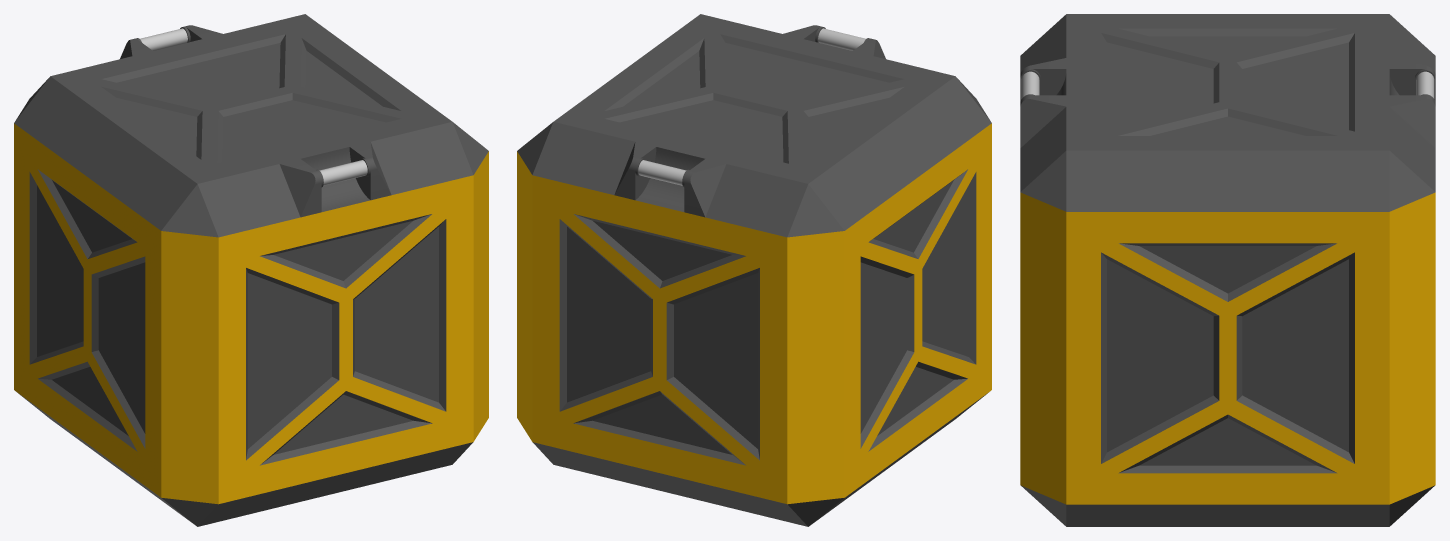
The model's file is crate 1.fbx.
3 renders of one model, left to right at view 1: azimuth 30°, elevation 25°; view 2: azimuth 150°, elevation 25°; view 3: azimuth 270°, elevation 25°, orthographic. The views are drawn at different scales.
Visible parts, largest first — view 1: Component_3_1, Component_1_2, Component_2_2, Component_2_1, Component_1_1; view 2: Component_3_1, Component_1_1, Component_2_1, Component_2_2, Component_1_2; view 3: Component_3_1, Component_1_1, Component_1_2, Component_2_1, Component_2_2.
Part boxes in pixels (x1,y1,x2,y2): Component_3_1: [14, 14, 488, 526]; Component_1_2: [279, 142, 391, 217]; Component_2_2: [316, 158, 370, 187]; Component_2_1: [136, 26, 190, 50]; Component_1_1: [120, 25, 222, 58]; Component_3_1: [517, 14, 991, 526]; Component_1_1: [614, 142, 726, 217]; Component_2_1: [635, 158, 689, 187]; Component_2_2: [815, 26, 869, 50]; Component_1_2: [783, 25, 885, 58]; Component_3_1: [1020, 14, 1435, 526]; Component_1_1: [1389, 58, 1435, 147]; Component_1_2: [1020, 58, 1066, 147]; Component_2_1: [1415, 69, 1435, 102]; Component_2_2: [1020, 69, 1040, 102].
Bounding box in the file's own units: 36 × 36 × 36.
